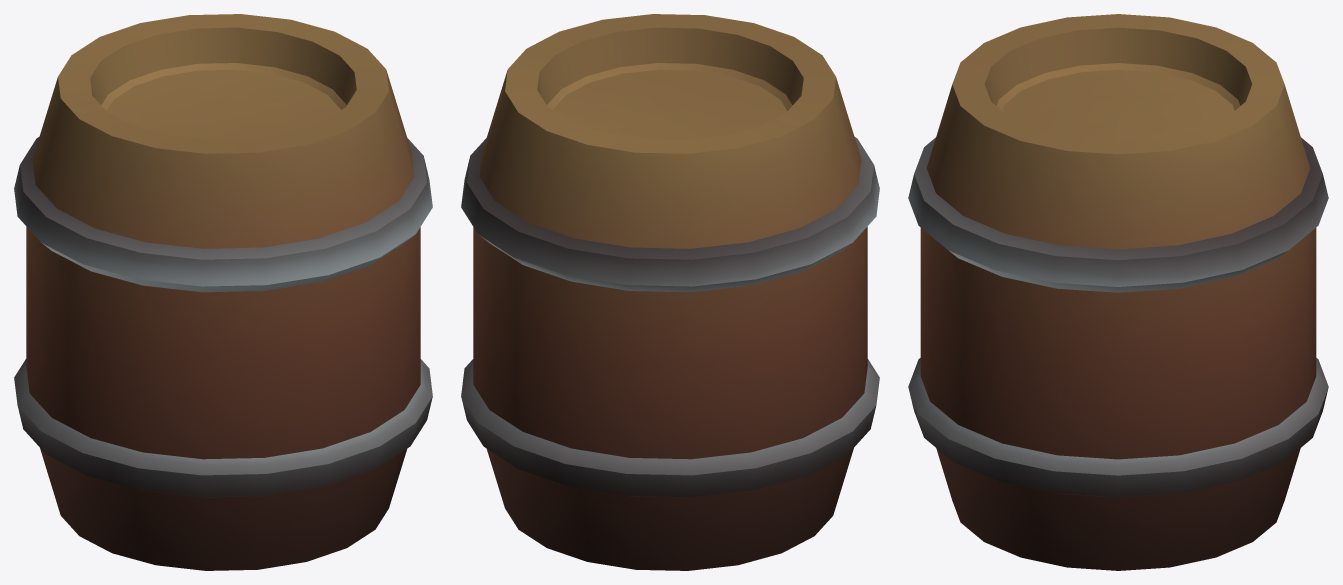
File: SM_Prop_barrel_01.fbx
3 renders of one model, left to right at view 1: azimuth 30°, elevation 25°; view 2: azimuth 150°, elevation 25°; view 3: azimuth 270°, elevation 25°, orthographic.
Parts seen in each view (by area): view 1: SM_Prop_Barrel_01; view 2: SM_Prop_Barrel_01; view 3: SM_Prop_Barrel_01.
Boxes of the visible parts, x1,y1,x2,y2 form: SM_Prop_Barrel_01: [14, 14, 432, 570]; SM_Prop_Barrel_01: [461, 14, 879, 570]; SM_Prop_Barrel_01: [908, 14, 1328, 570].
Bounding box in the file's own units: 91.5 × 100 × 91.5.
